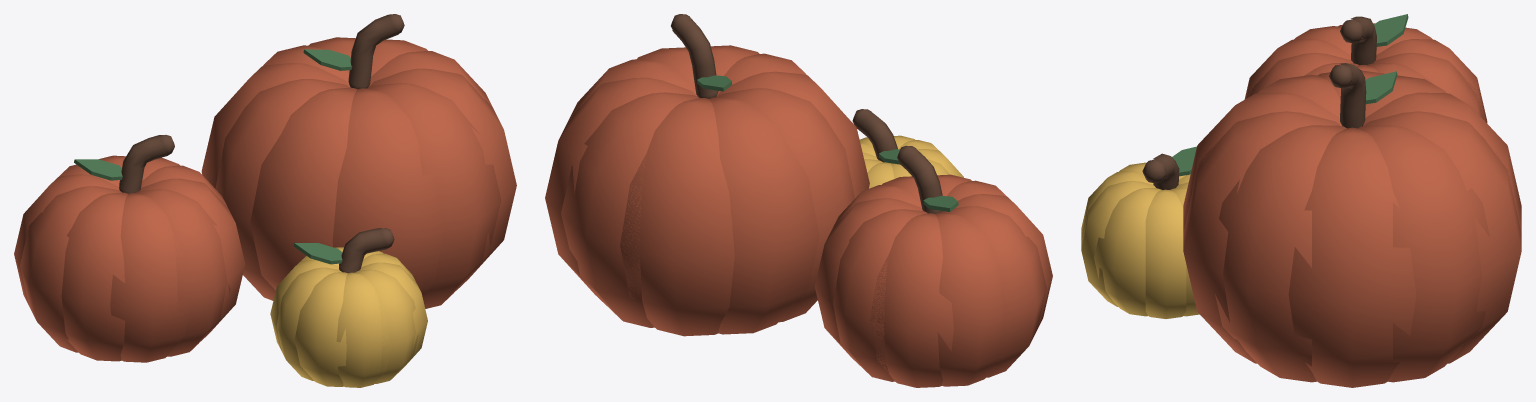
The model's file is almanac-gardens-pumpkin-trio-fa6710c9__22056.glb.
The picture shows the model from 3 angles, left to right: view 1: azimuth 30°, elevation 25°; view 2: azimuth 150°, elevation 25°; view 3: azimuth 270°, elevation 25°; orthographic projection. The views are drawn at different scales.
Visible parts, largest first — view 1: pumpkin-trio-clay, pumpkin-trio-gold, pumpkin-trio-bark, pumpkin-trio-leaf; view 2: pumpkin-trio-clay, pumpkin-trio-bark, pumpkin-trio-gold, pumpkin-trio-leaf; view 3: pumpkin-trio-clay, pumpkin-trio-gold, pumpkin-trio-bark, pumpkin-trio-leaf.
Part boxes in pixels (x1,y1,x2,y2): pumpkin-trio-clay: (14,37,516,362); pumpkin-trio-gold: (270,247,427,387); pumpkin-trio-bark: (119,14,404,273); pumpkin-trio-leaf: (74,49,352,264); pumpkin-trio-clay: (545,45,1052,387); pumpkin-trio-bark: (671,14,943,213); pumpkin-trio-gold: (859,135,963,188); pumpkin-trio-leaf: (697,75,958,211); pumpkin-trio-clay: (1183,23,1521,387); pumpkin-trio-gold: (1081,162,1199,318); pumpkin-trio-bark: (1142,16,1376,189); pumpkin-trio-leaf: (1172,14,1408,176).
Bounding box in the file's own units: 1.09 × 0.611 × 0.8022.
